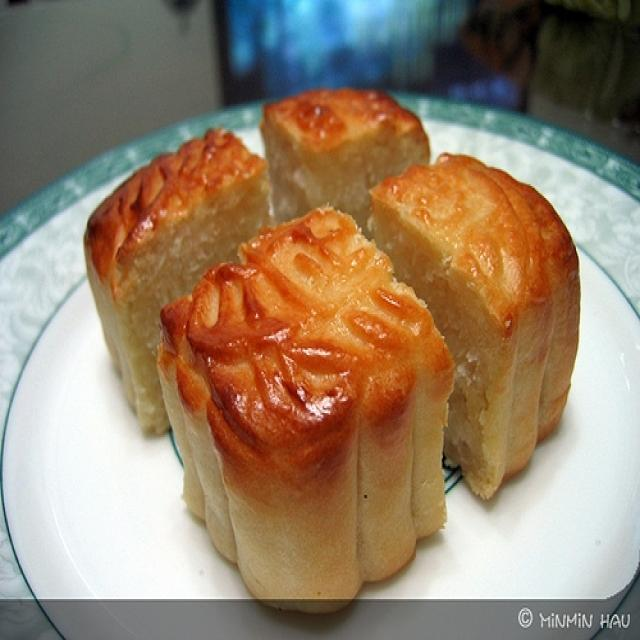蛋糕甜品: (18, 31, 612, 580)
